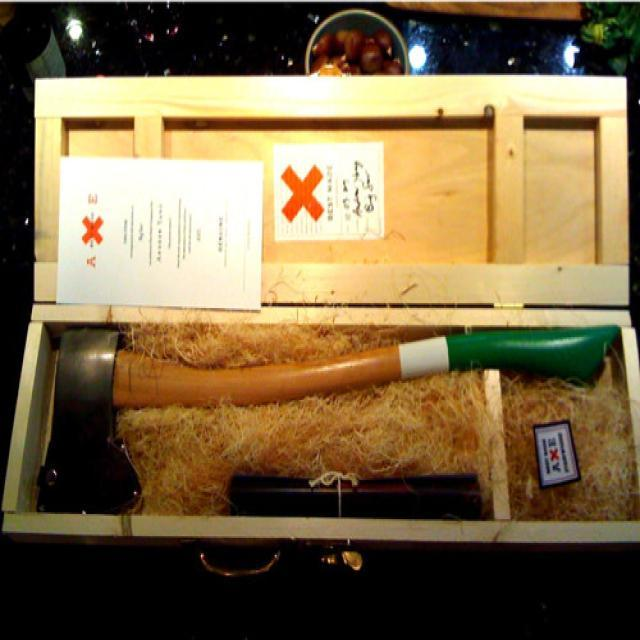Axe: (39, 326, 620, 512)
